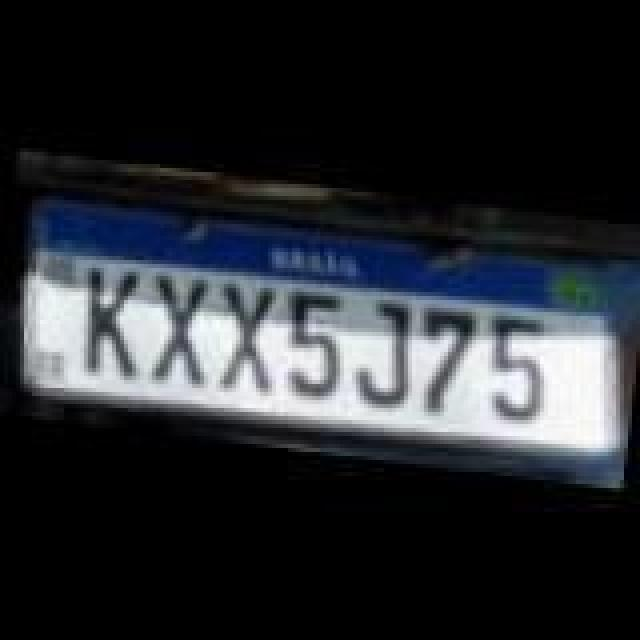5: (480, 306, 560, 430), (284, 282, 356, 406)
7: (410, 300, 486, 420)
J: (344, 292, 424, 412)
K: (70, 256, 154, 384)
X: (132, 266, 220, 398), (212, 274, 292, 398)
